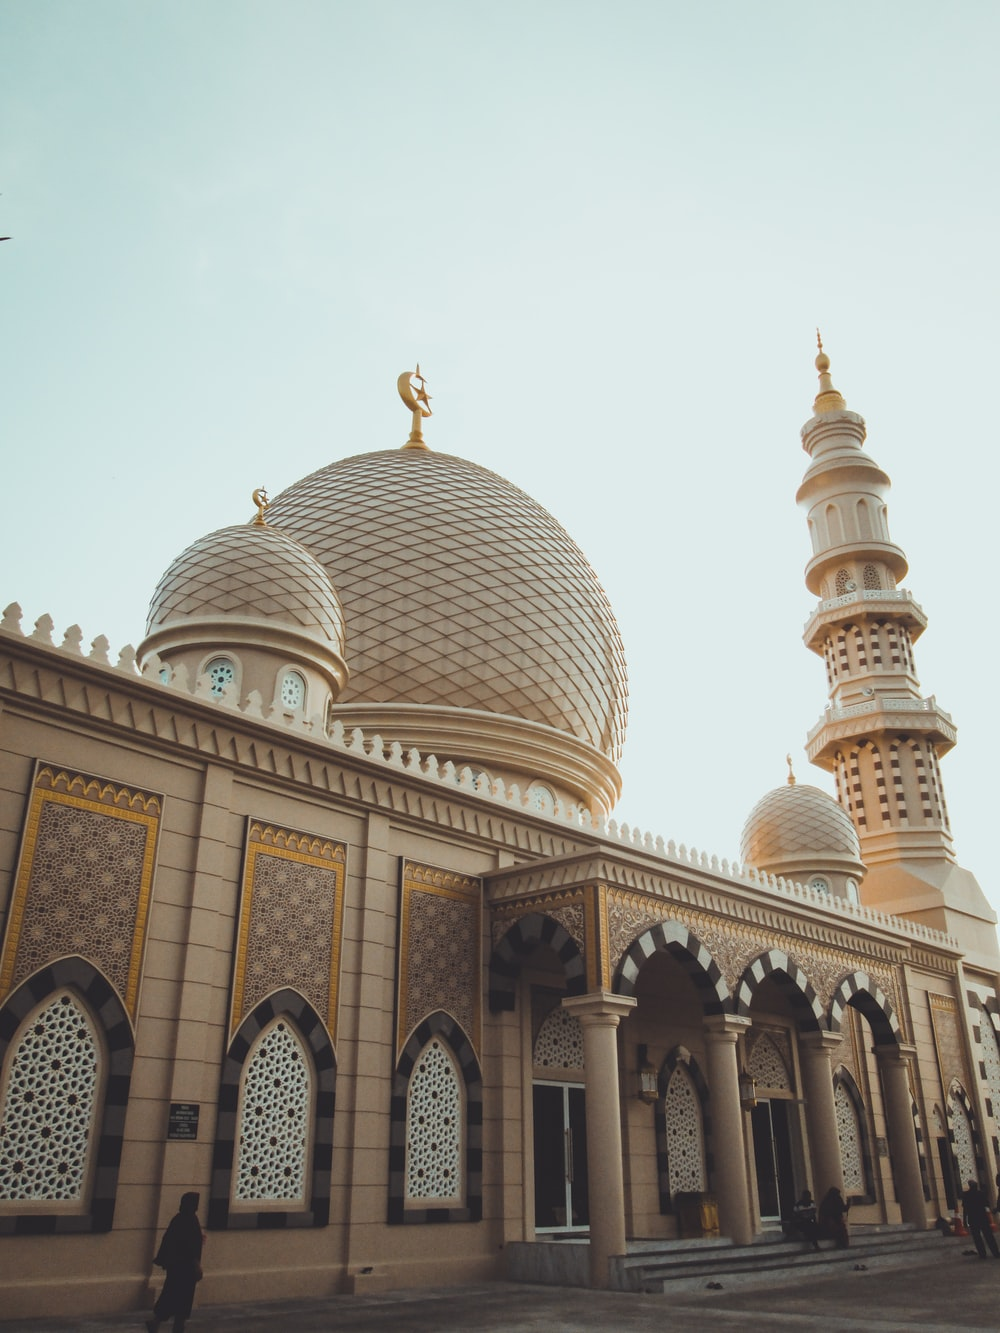Mosque: (99, 345, 1000, 1150)
